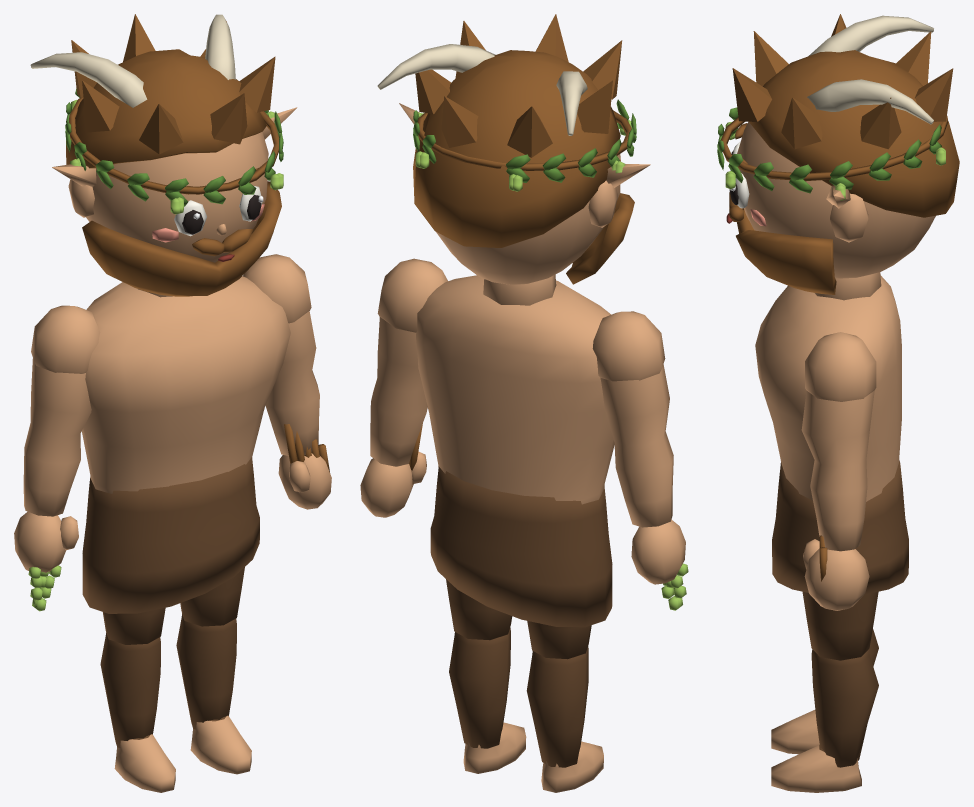
Rendered from satyr.glb.
3 views of the same model, side by side, from view 1: azimuth 30°, elevation 25°; view 2: azimuth 150°, elevation 25°; view 3: azimuth 270°, elevation 25° (orthographic). The views are drawn at different scales.
Visible parts, largest first — view 1: rumpf, huefte, haare, armL, kopf, armR, bart, knieR, knieL, kopfschmuck2, kopfschmuck, beinR (+5 smaller); view 2: rumpf, haare, huefte, armL, armR, kopf, knieL, knieR, kopfschmuck2, kopfschmuck, beinR, bart (+2 smaller); view 3: haare, rumpf, armR, kopf, knieR, huefte, kopfschmuck, bart, kopfschmuck2, beinR, knieL, augeR.
Boxes of the visible parts, x1=… form: rumpf: x1=81, y1=276, x2=290, y2=493; huefte: x1=82, y1=457, x2=259, y2=613; haare: x1=66, y1=14, x2=275, y2=168; armL: x1=14, y1=305, x2=100, y2=572; kopf: x1=68, y1=132, x2=268, y2=297; armR: x1=243, y1=254, x2=331, y2=509; bart: x1=82, y1=181, x2=281, y2=296; knieR: x1=176, y1=614, x2=251, y2=774; knieL: x1=100, y1=632, x2=175, y2=792; kopfschmuck2: x1=65, y1=88, x2=283, y2=214; kopfschmuck: x1=30, y1=14, x2=297, y2=186; beinR: x1=180, y1=567, x2=244, y2=626; rumpf: x1=416, y1=275, x2=614, y2=504; haare: x1=413, y1=14, x2=622, y2=247; huefte: x1=430, y1=466, x2=612, y2=627; armL: x1=592, y1=311, x2=685, y2=584; armR: x1=360, y1=258, x2=447, y2=517; kopf: x1=436, y1=154, x2=620, y2=305; knieL: x1=526, y1=646, x2=603, y2=792; knieR: x1=449, y1=627, x2=526, y2=773; kopfschmuck2: x1=413, y1=99, x2=636, y2=191; kopfschmuck: x1=377, y1=44, x2=650, y2=187; beinR: x1=446, y1=579, x2=512, y2=640; bart: x1=566, y1=193, x2=634, y2=284; haare: x1=732, y1=14, x2=959, y2=217; rumpf: x1=755, y1=275, x2=901, y2=501; armR: x1=801, y1=332, x2=876, y2=610; kopf: x1=737, y1=122, x2=935, y2=300; knieR: x1=771, y1=649, x2=878, y2=792; huefte: x1=772, y1=460, x2=908, y2=594; kopfschmuck: x1=807, y1=15, x2=933, y2=208; bart: x1=729, y1=192, x2=836, y2=294; kopfschmuck2: x1=717, y1=107, x2=948, y2=200; beinR: x1=802, y1=591, x2=878, y2=660; knieL: x1=771, y1=629, x2=878, y2=754; augeR: x1=729, y1=173, x2=749, y2=208.
Bounding box in the file's own units: 1.05 × 2.3 × 0.7114.
